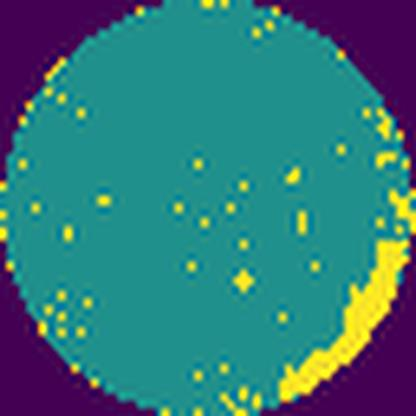Edge-Loc: (275, 236, 415, 408)
